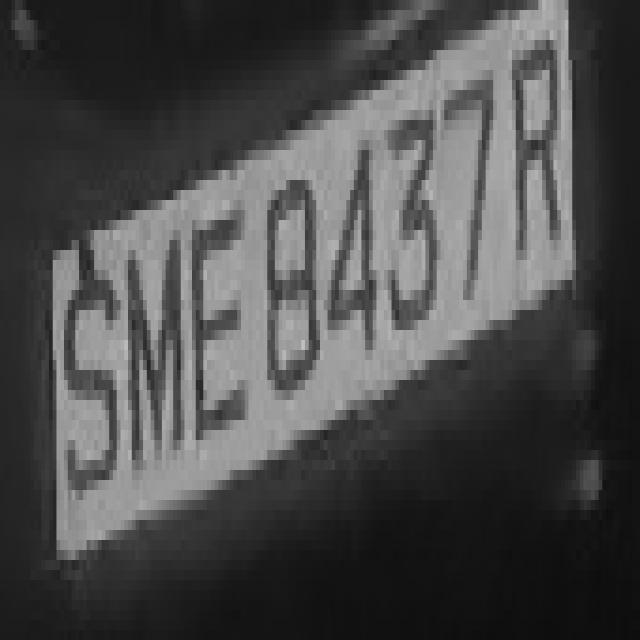3: (365, 80, 444, 370)
4: (316, 120, 392, 440)
7: (437, 50, 497, 350)
8: (256, 140, 328, 450)
E: (181, 160, 252, 490)
M: (120, 190, 184, 490)
R: (497, 20, 572, 330)
S: (49, 230, 120, 550)
